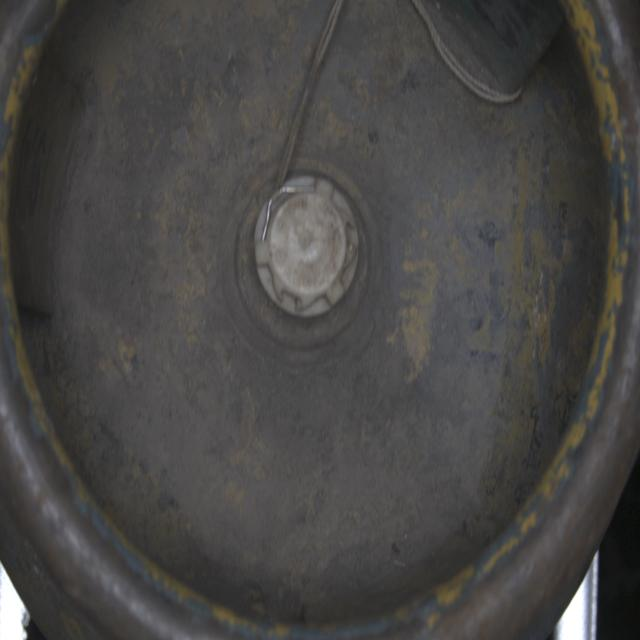Cap: (254, 176, 363, 321)
